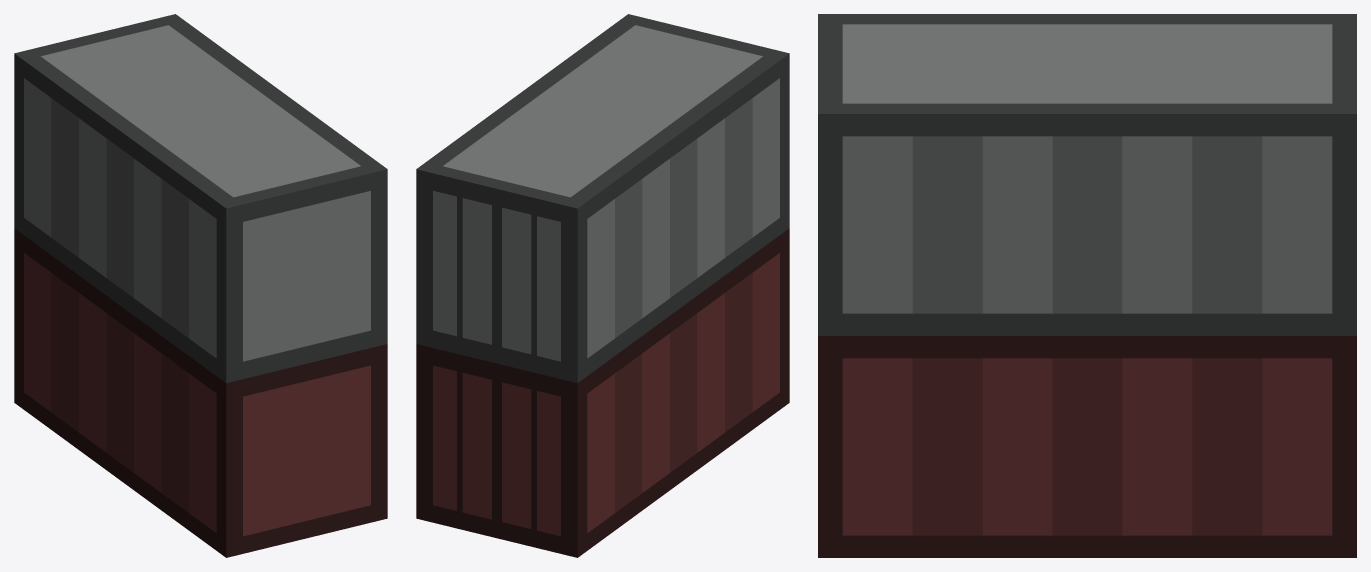
Rendered from container-stack-2.glb.
3 renders of one model, left to right at view 1: azimuth 30°, elevation 25°; view 2: azimuth 150°, elevation 25°; view 3: azimuth 270°, elevation 25°, orthographic. The views are drawn at different scales.
Visible parts, largest first — view 1: container-stack-2; view 2: container-stack-2; view 3: container-stack-2.
Part boxes in pixels (bbox=[...]): container-stack-2: bbox=[14, 14, 387, 557]; container-stack-2: bbox=[416, 14, 789, 557]; container-stack-2: bbox=[818, 14, 1356, 557].
Bounding box in the file's own units: 5.8 × 12 × 13.2.
